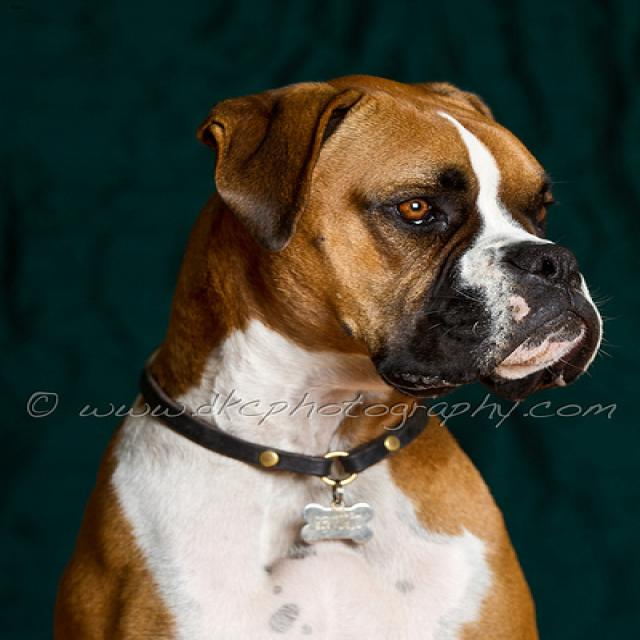dog-boxer: (35, 65, 630, 637)
